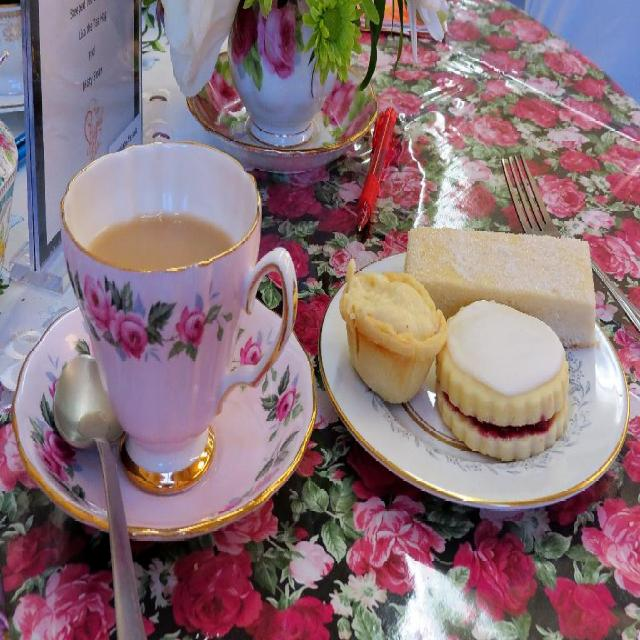Tea: (87, 210, 232, 270)
